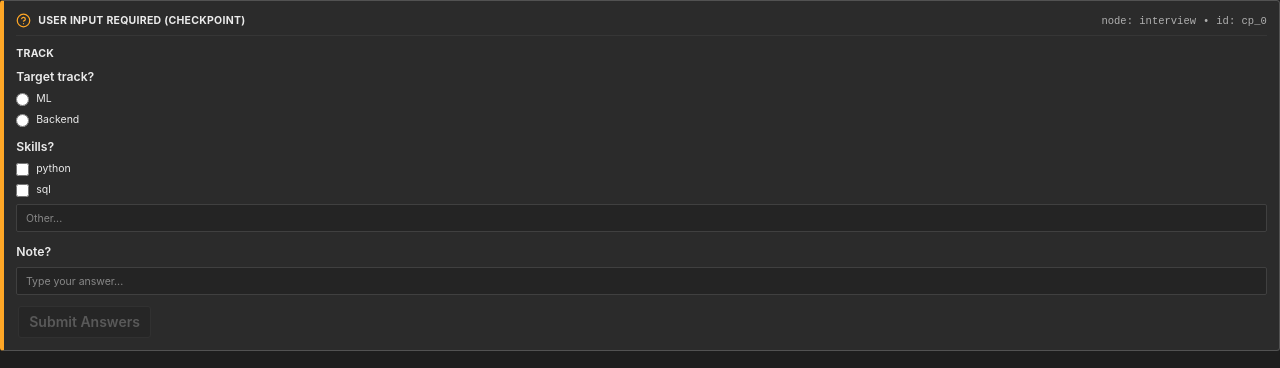
CheckpointCard component › keeps submit disabled until every question is answered, then posts an answer map
Later steps or results of the test are not shown.
Click the radio button labelled "Backend".
click(23, 120)  # box x1=16 y1=114 x2=29 y2=127
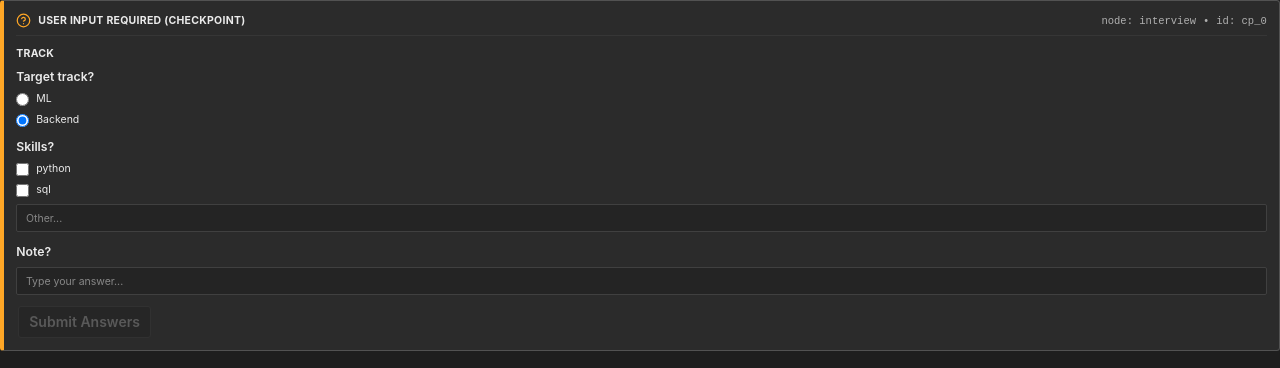
Expected: the button "Submit Answers" is disabled, x1=18 y1=306 x2=151 y2=338
Click the checkbox labelled "python".
click(23, 169)  # box x1=16 y1=163 x2=29 y2=176
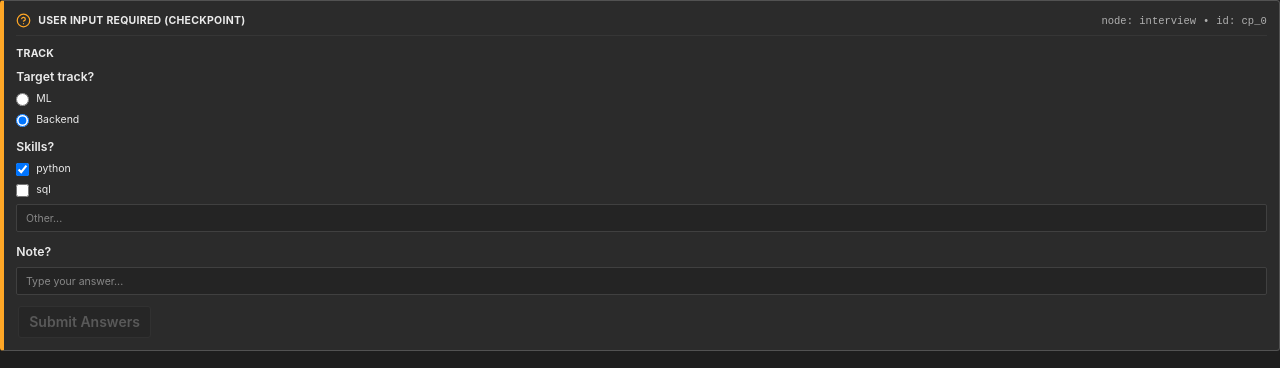
Click the checkbox labelled "sql".
click(23, 190)  # box x1=16 y1=184 x2=29 y2=197
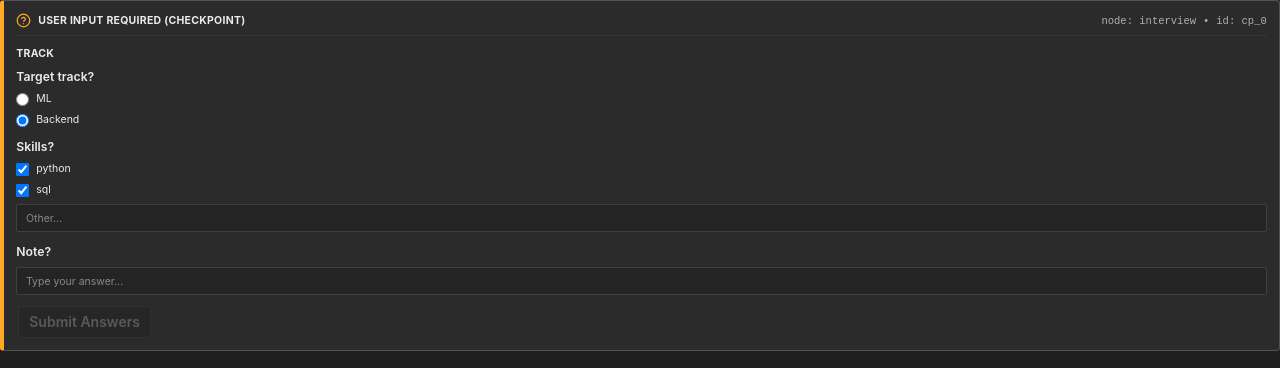
Type "go" into the field named "Other answer for skills".
click(642, 218); type("go")  # box x1=16 y1=204 x2=1267 y2=232
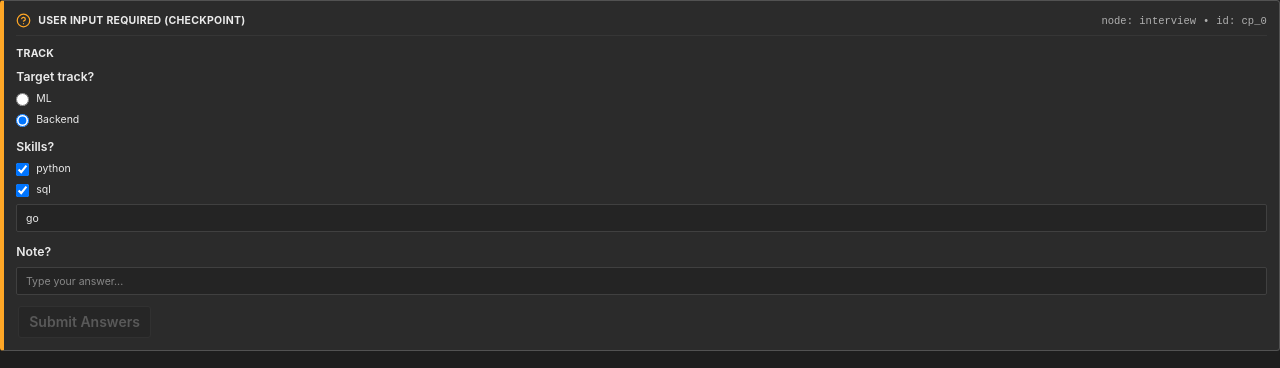
Expected: the button "Submit Answers" is disabled, x1=18 y1=306 x2=151 y2=338
Type "hello" into the field named "Answer for note".
click(642, 281); type("hello")  # box x1=16 y1=267 x2=1267 y2=295
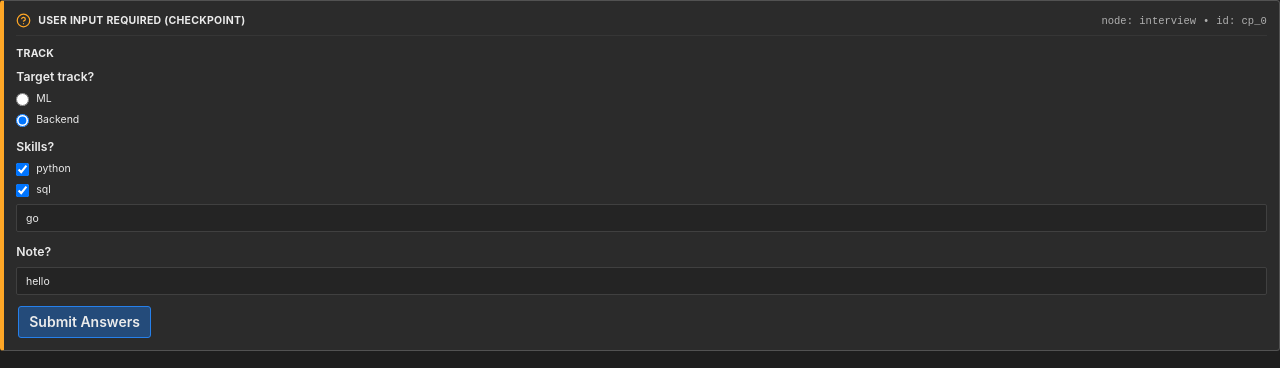
Expected: the button "Submit Answers" is enabled, x1=18 y1=306 x2=151 y2=338
